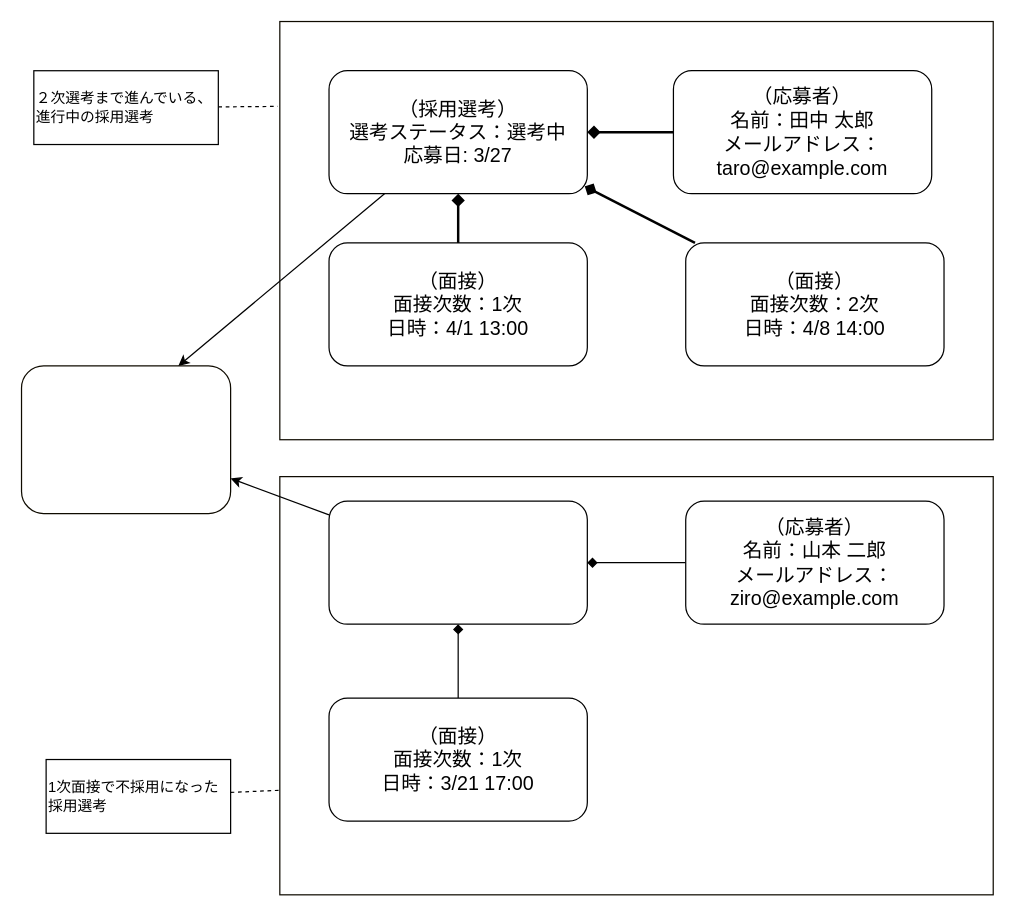
This 1015x916 diagram has some shape labels left out. The shapes that lost their labels are listed below. From the top down, each one's box as (x1, y1, x2, y2) in pixels, then its label:
(20, 365, 231, 514): （採用ポジション） ポジション名：サーバーサイドエンジニア 募集ステータス：募集中 募集人数：３人
(328, 500, 587, 624): （採用選考） 選考ステータス：不採用 応募日: 3/27
